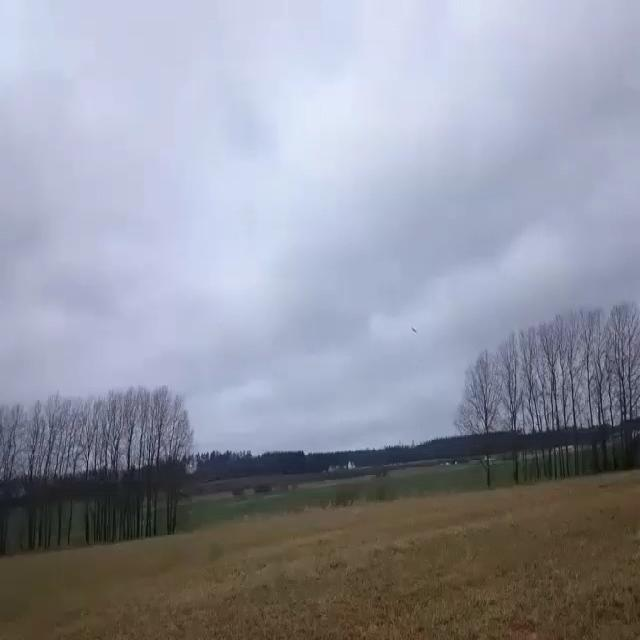drone: (412, 326, 416, 333)
